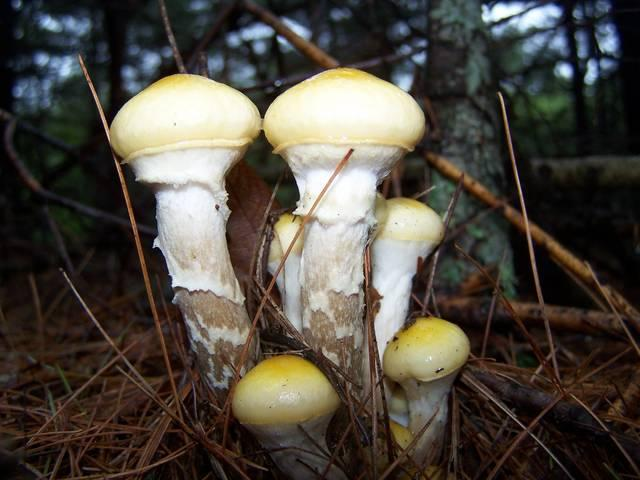edible_mushroom: (261, 66, 427, 411), (108, 72, 262, 404), (231, 353, 350, 479), (380, 315, 470, 475)
